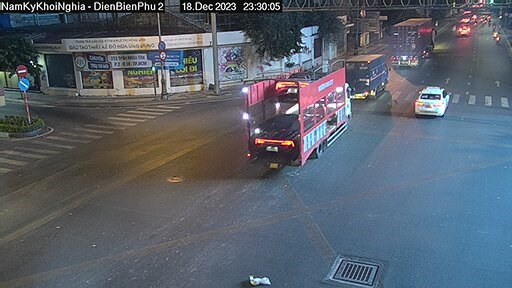motorbike: (348, 50, 387, 95), (409, 78, 445, 124)
truck: (246, 53, 348, 158), (384, 14, 436, 67)
